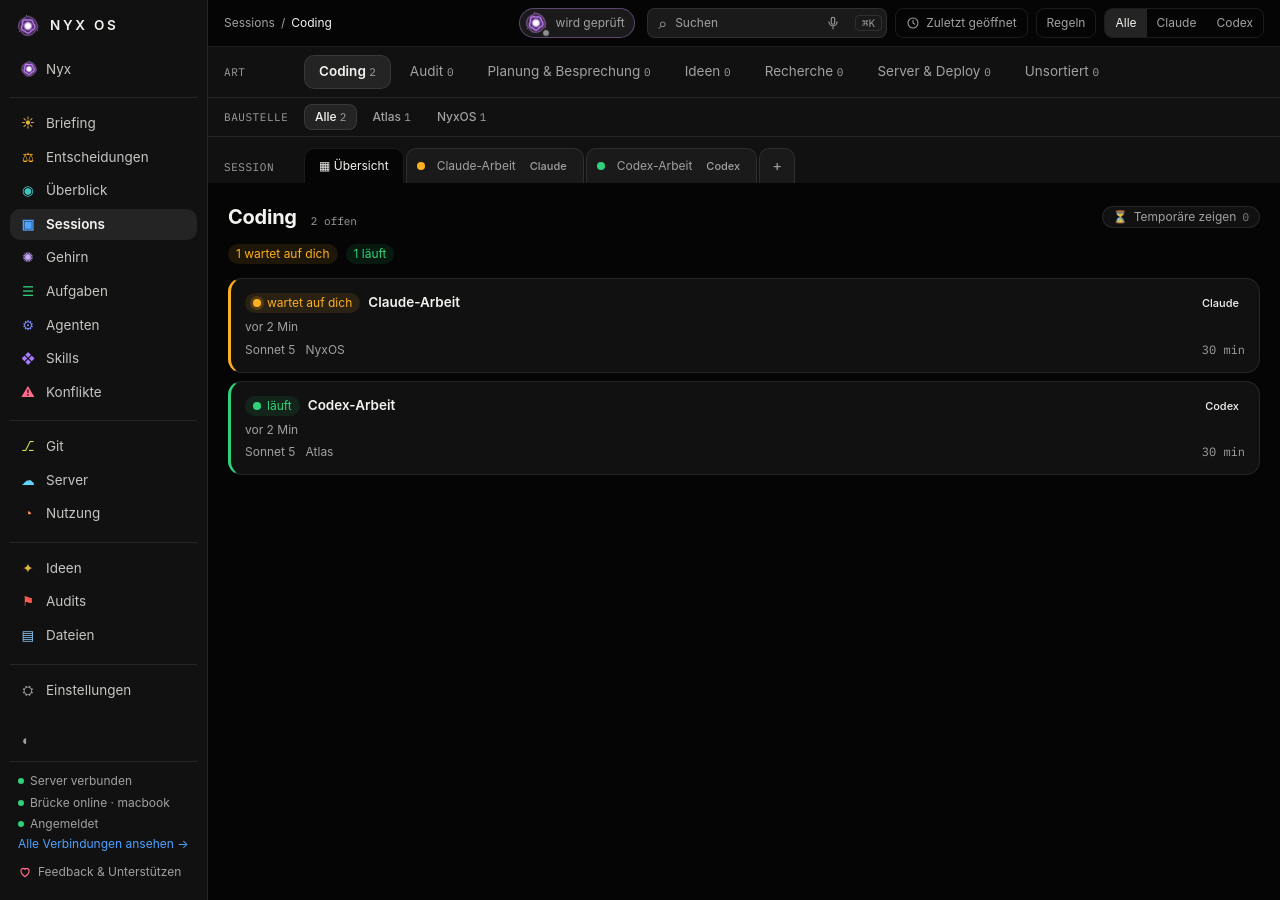
Test: Filter Claude/Codex wirkt auf Art UND Baustelle › Codex-Filter holt die Zähler mit ?tool=codex; Art, „Alle“ und Baustellen stimmen
Expected: the tab "Coding 2" is shown, [304,55,391,89]
Expected: the tab "Alle 2" is shown, [304,104,357,130]
Click the button "Codex" at (1235, 23), box [1206,9,1263,37]
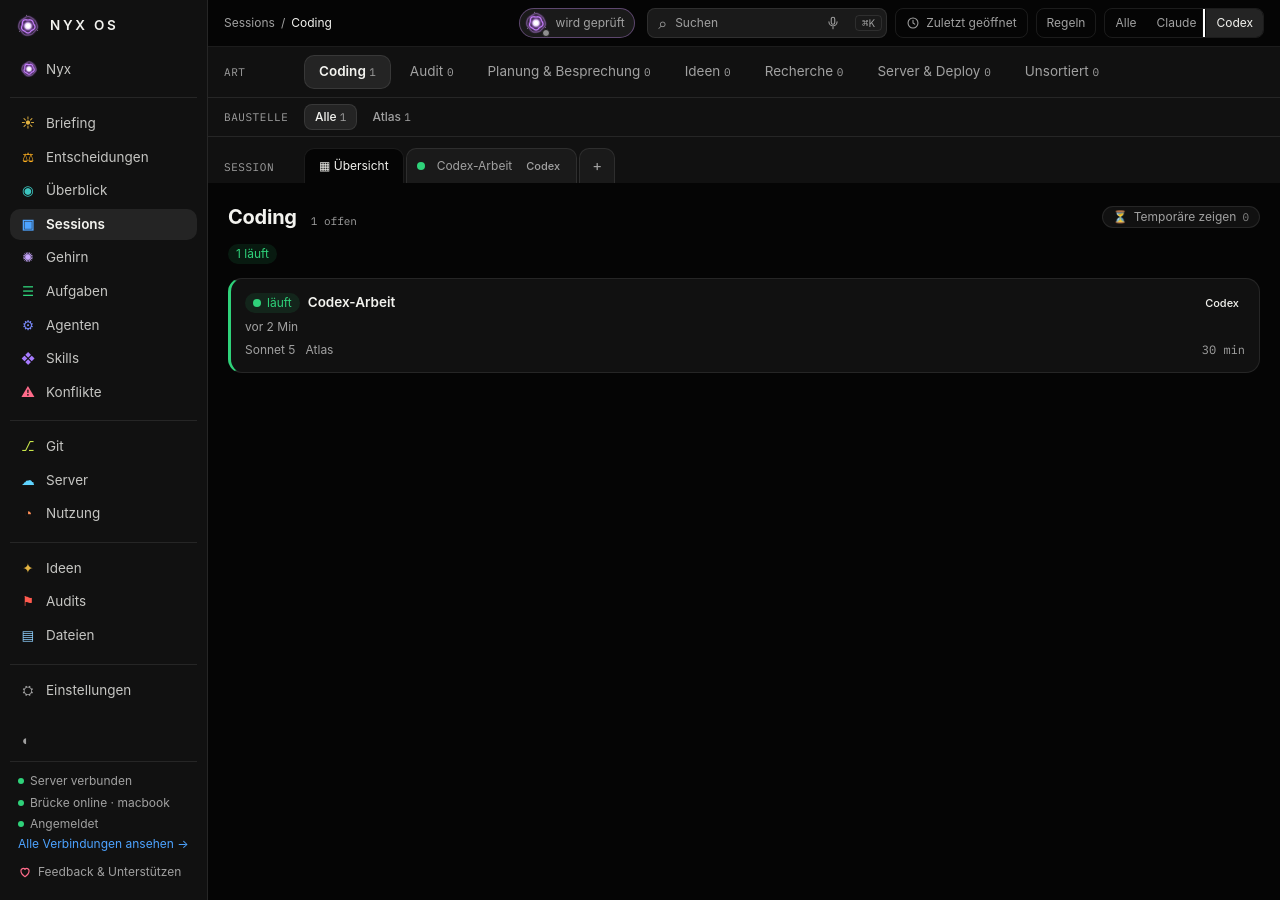
Expected: the tab "Coding 1" is shown, [304,55,391,89]
Expected: the tab "Alle 1" is shown, [304,104,357,130]
Expected: the tab "NyxOS" is gone
